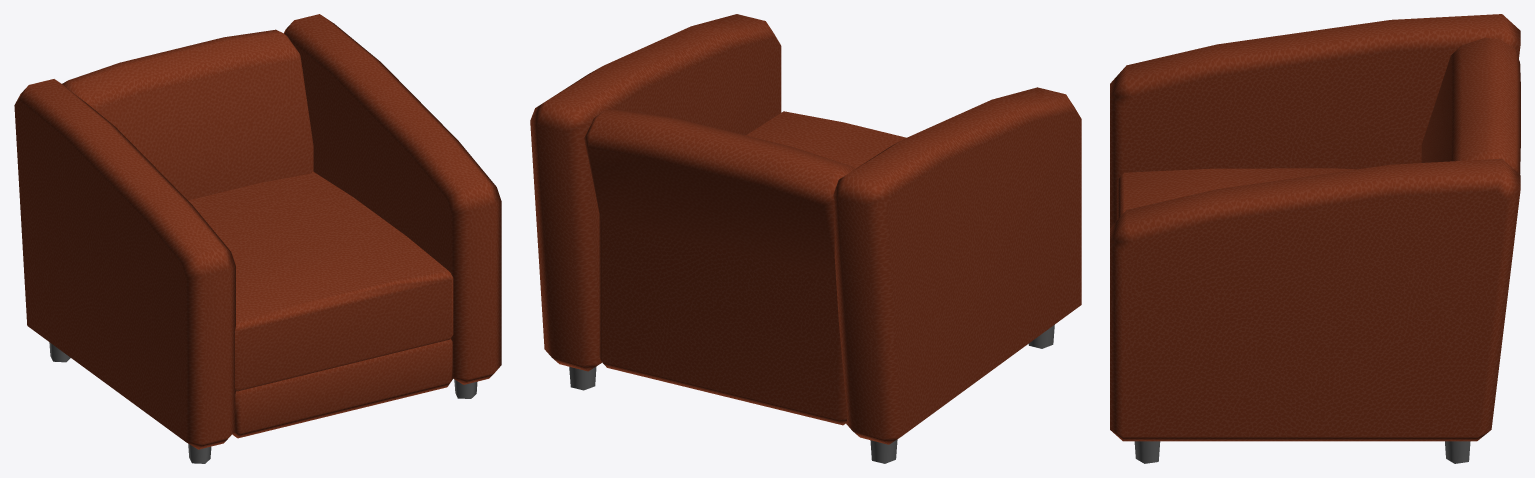
File: chair_015.fbx
The picture shows the model from 3 angles, left to right: view 1: azimuth 30°, elevation 25°; view 2: azimuth 150°, elevation 25°; view 3: azimuth 270°, elevation 25°; orthographic projection. The views are drawn at different scales.
Visible parts, largest first — view 1: chair_015; view 2: chair_015; view 3: chair_015.
Part boxes in pixels (left/top/right/bottom): chair_015: left=14, top=14, right=501, bottom=463; chair_015: left=530, top=14, right=1081, bottom=463; chair_015: left=1110, top=14, right=1520, bottom=463.
Size of the model in its own units: 116 by 117 by 92.86.
